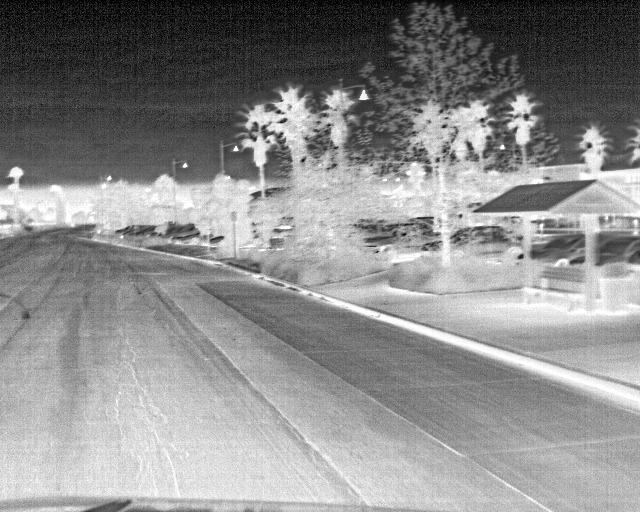car: (362, 220, 441, 255), (530, 229, 584, 266), (593, 234, 637, 273), (447, 222, 509, 246), (124, 224, 153, 241), (133, 225, 156, 243), (112, 225, 131, 238)
